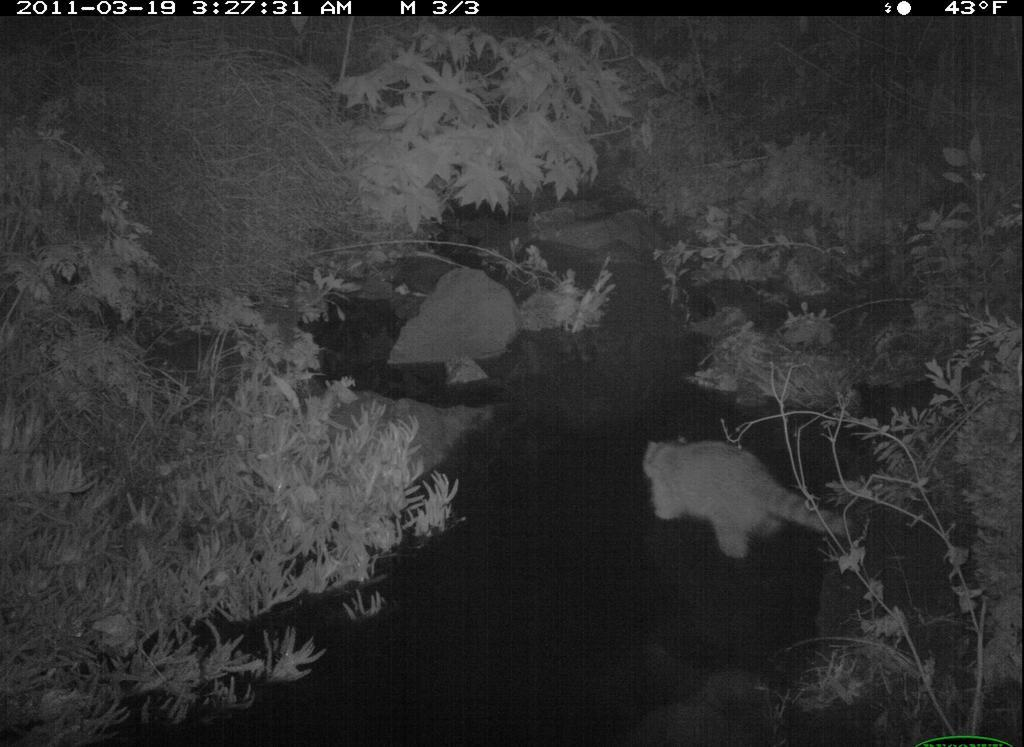raccoon: (625, 423, 865, 571)
